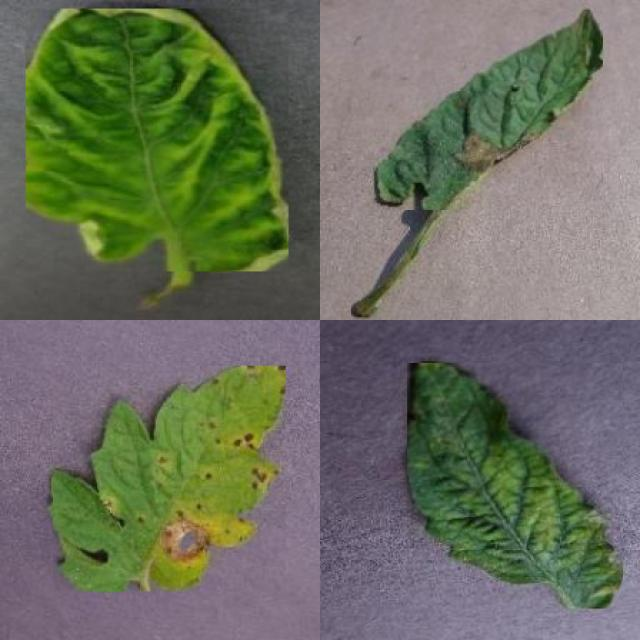Late Blight: (374, 7, 603, 210)
Mosaic Virus: (407, 362, 623, 609)
Septoria: (53, 365, 286, 592)
Yellow Leaf Curl Virus: (25, 8, 288, 272)
